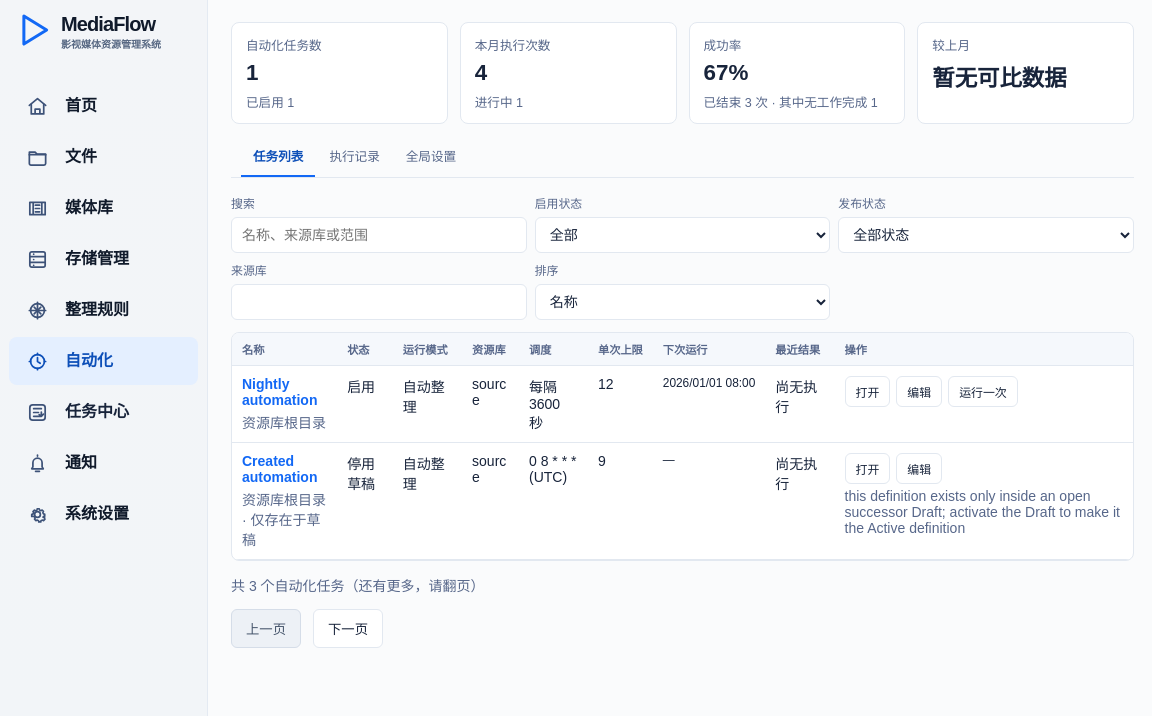
V2 Automation journey › reaches the whole population through the server page cursor
(page scrolled)
Expected: the text "共 3 个自动化任务（还有更多，请翻页）" is shown, [231, 578, 485, 594]
Expected: the button "Created automation" is shown, [242, 453, 327, 485]
Click the button "下一页".
click(348, 628)  # box [313, 609, 383, 648]
(page scrolled)
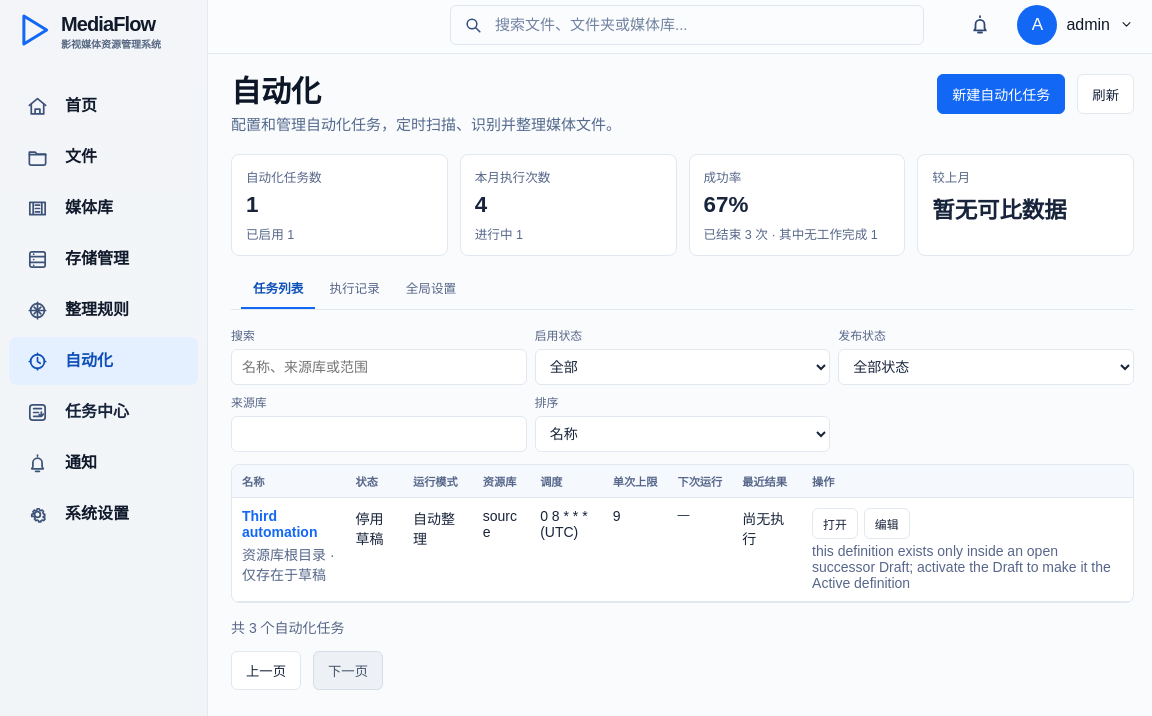
Expected: the button "Third automation" is shown, [242, 508, 336, 540]
Expected: the button "Nightly automation" is gone
